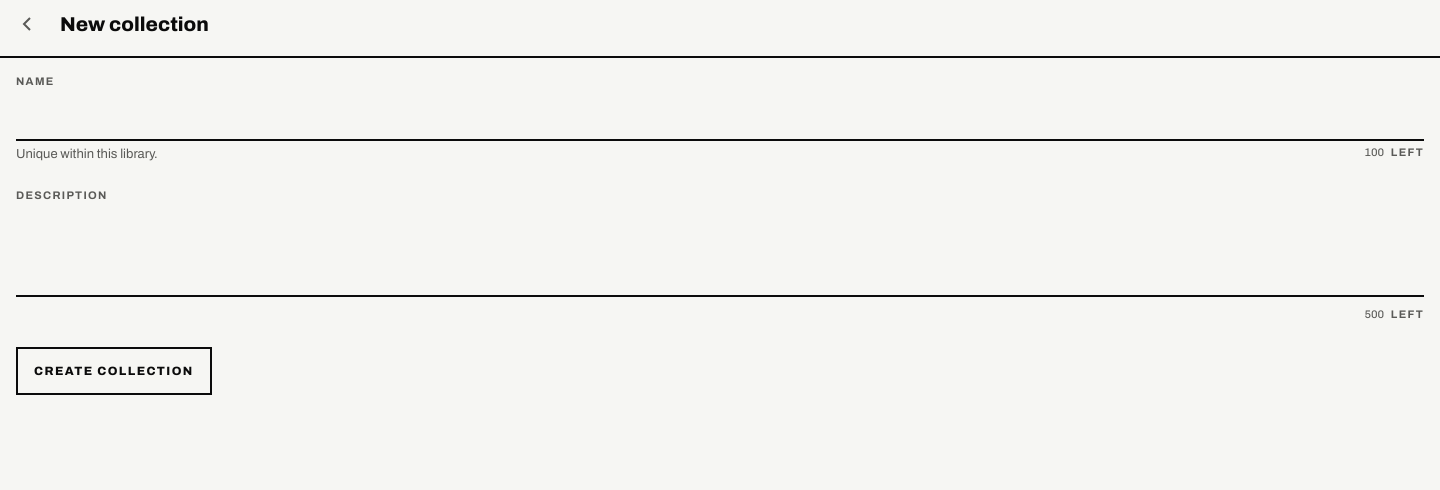
Test: NewCollection › shows a non-duplicate failure as a page-level, app-authored message
In the field labelled "Name": (720, 117) [16, 93, 1424, 141], type "Melville"
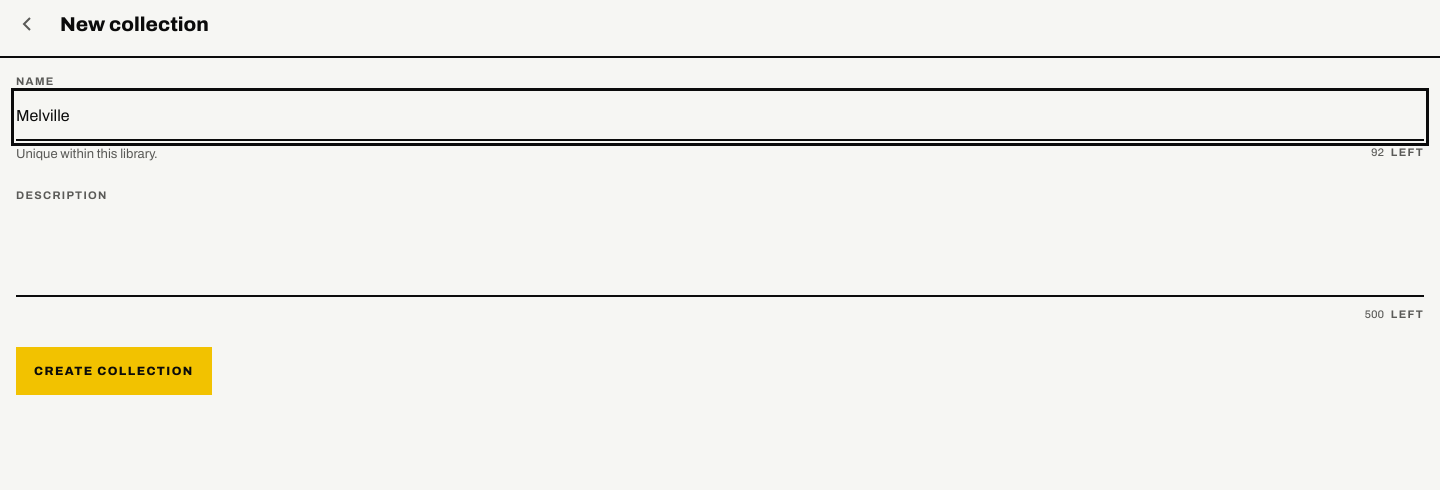
Click the button "Create collection": (114, 371) [16, 347, 212, 395]
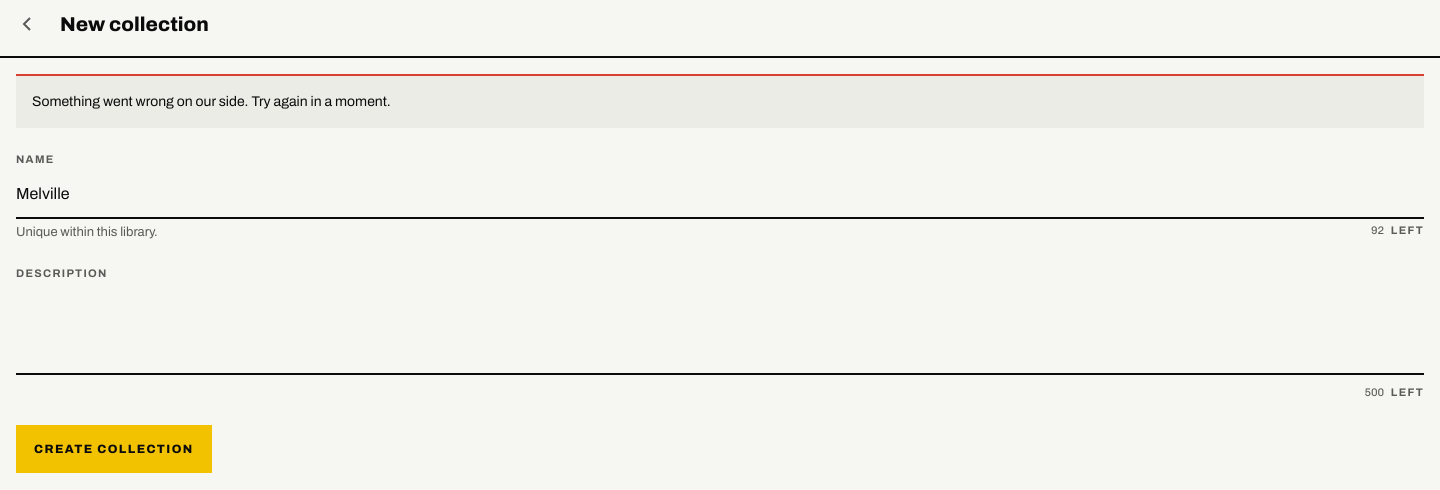
expect the message shows "went wrong": met, box [32, 94, 391, 109]
